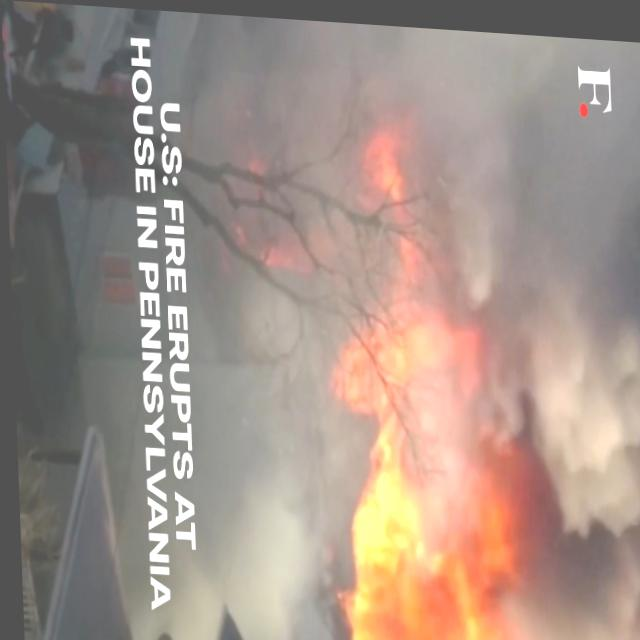Fire: (334, 181, 502, 640)
Smoke: (181, 9, 391, 640), (483, 116, 640, 640)
